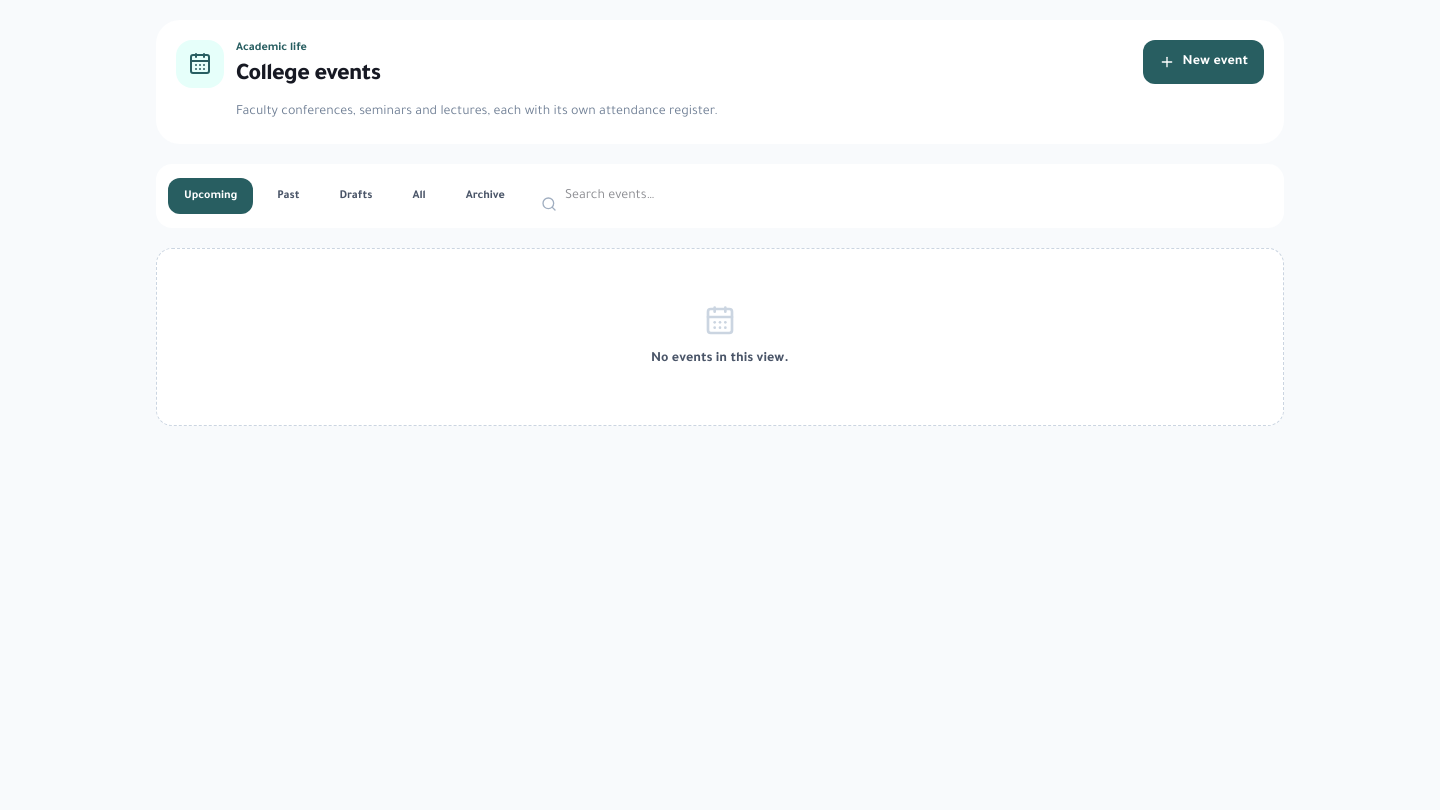
publishes a draft directly from its card after showing that check-in remains closed
Click the button "Drafts". click: [356, 196]
box: x1=324 y1=178 x2=388 y2=214
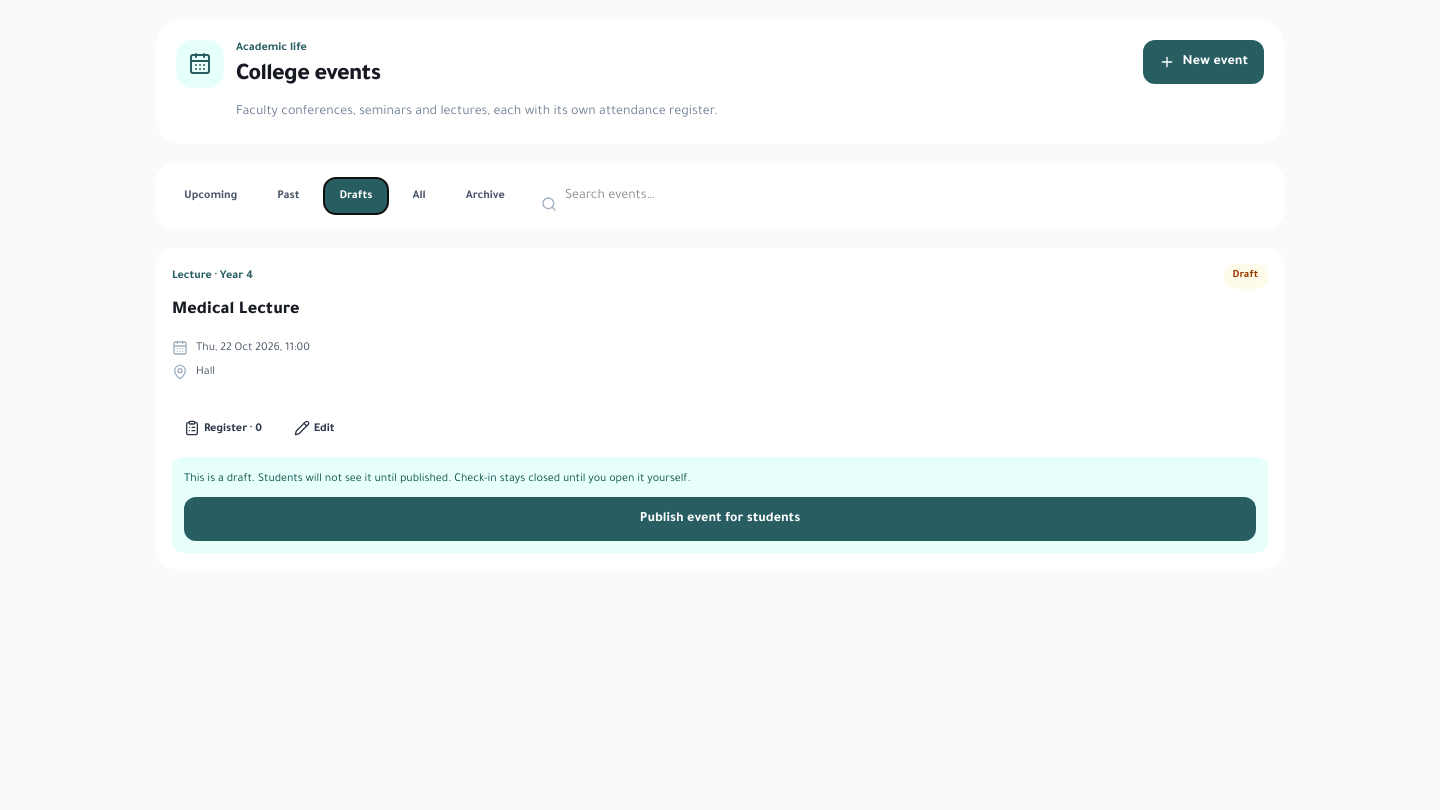
Now the heading "Medical Lecture" is shown, box x1=172 y1=296 x2=300 y2=324
Now the text "Students will not see it until published" is shown, box x1=184 y1=473 x2=691 y2=485
Click the button "Publish event for students". click: [720, 519]
box: x1=184 y1=497 x2=1256 y2=541
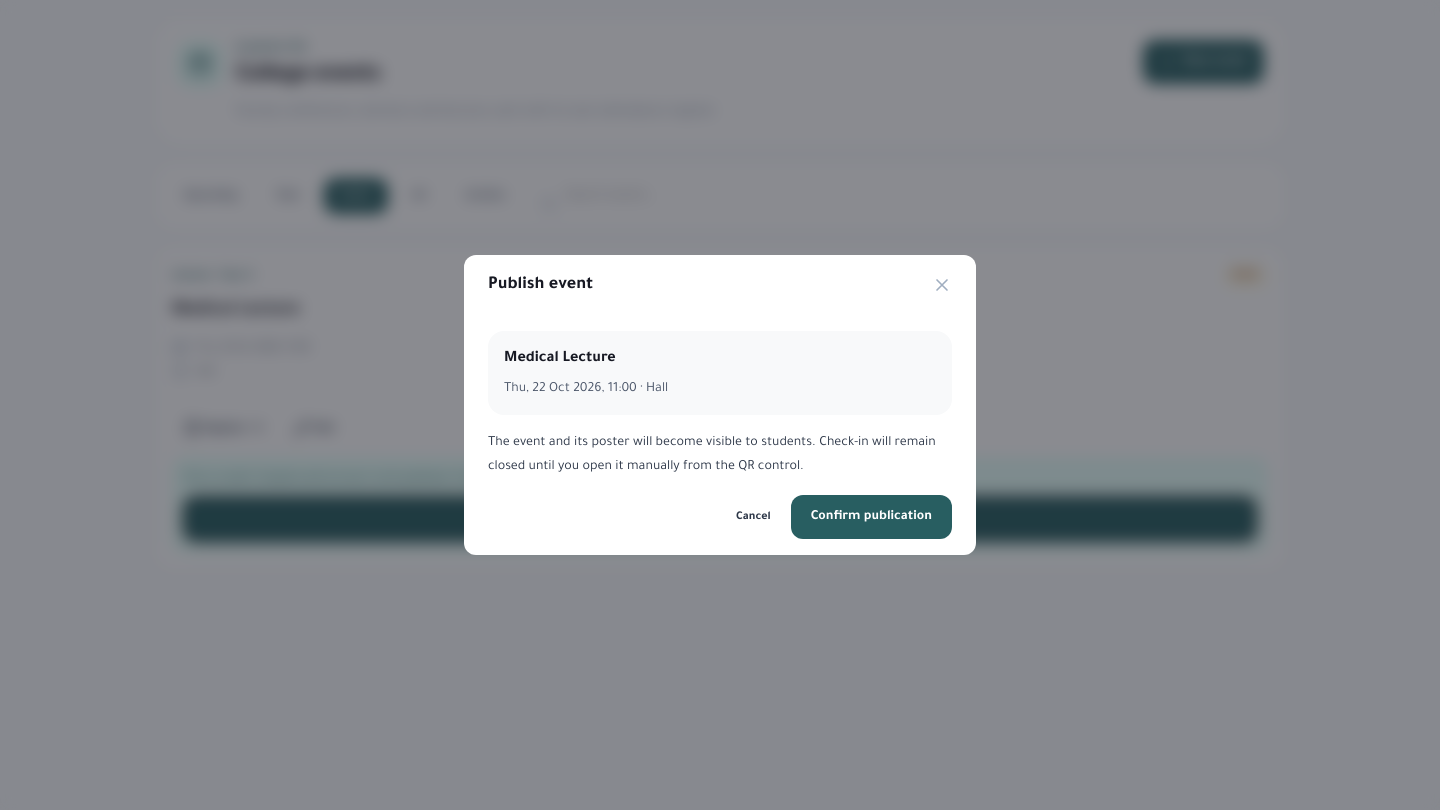
Now the text "Check-in will remain closed until you open it manually" is shown, box x1=488 y1=436 x2=936 y2=474
Click the button "Confirm publication". click: [871, 517]
box: x1=791 y1=495 x2=952 y2=539
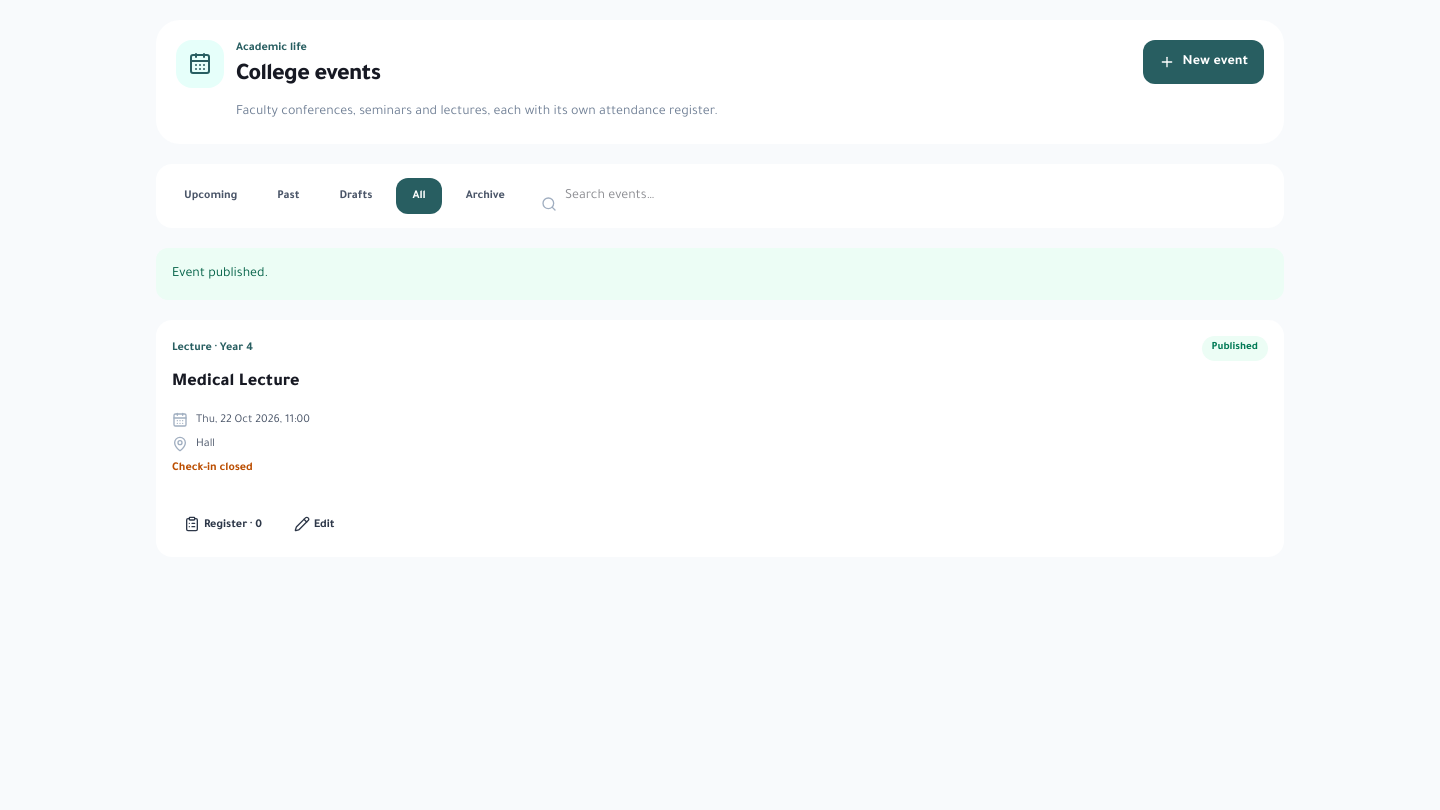
Now the text "Published" is shown, box x1=1202 y1=336 x2=1268 y2=360
